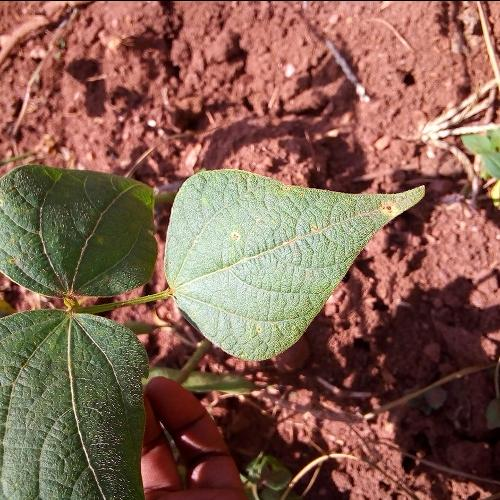embun tepung: (54, 324, 148, 499), (11, 187, 120, 274)
hawar: (202, 211, 273, 254), (345, 194, 417, 225)
